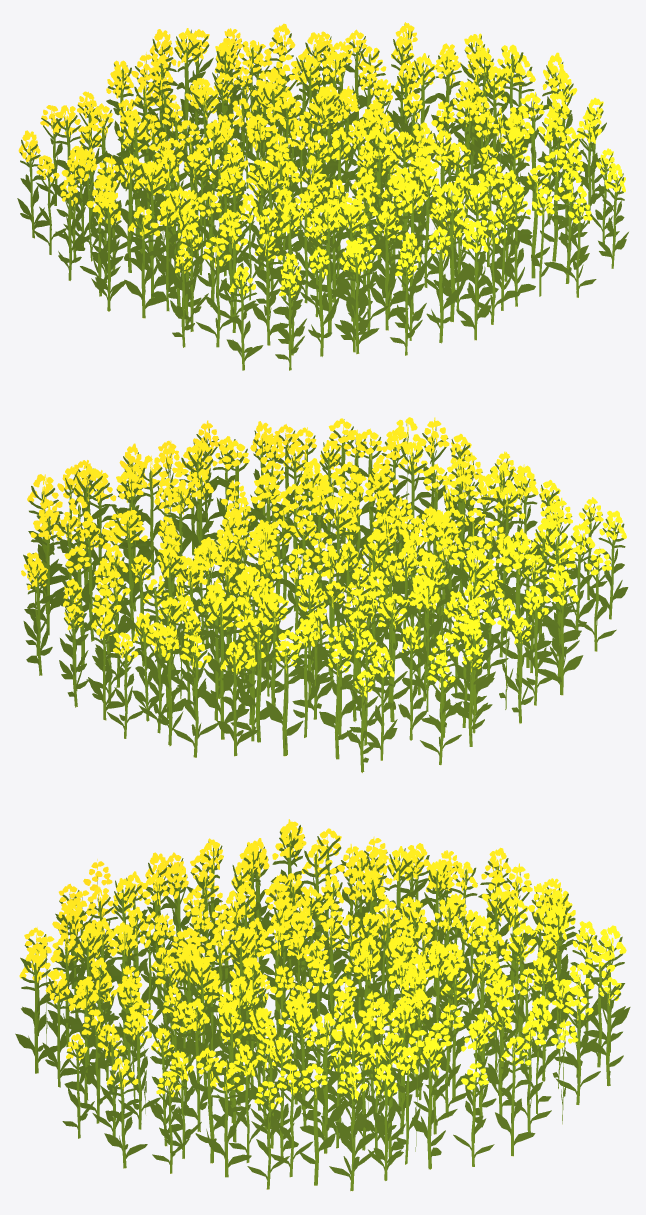
File: SM_Env_CropField_Clump_02.glb
3 renders of one model, top to bottom at view 1: azimuth 30°, elevation 25°; view 2: azimuth 150°, elevation 25°; view 3: azimuth 270°, elevation 25°, orthographic. The views are drawn at different scales.
Parts seen in each view (by area): view 1: SM_Env_CropField_Clump_02; view 2: SM_Env_CropField_Clump_02; view 3: SM_Env_CropField_Clump_02.
Boxes of the visible parts, x1,y1,x2,y2 form: SM_Env_CropField_Clump_02: [17, 22, 628, 370]; SM_Env_CropField_Clump_02: [21, 417, 628, 772]; SM_Env_CropField_Clump_02: [15, 819, 630, 1191].
Size of the model in its own units: 4.9 by 1.33 by 4.87.
1 material, 1 textured.
